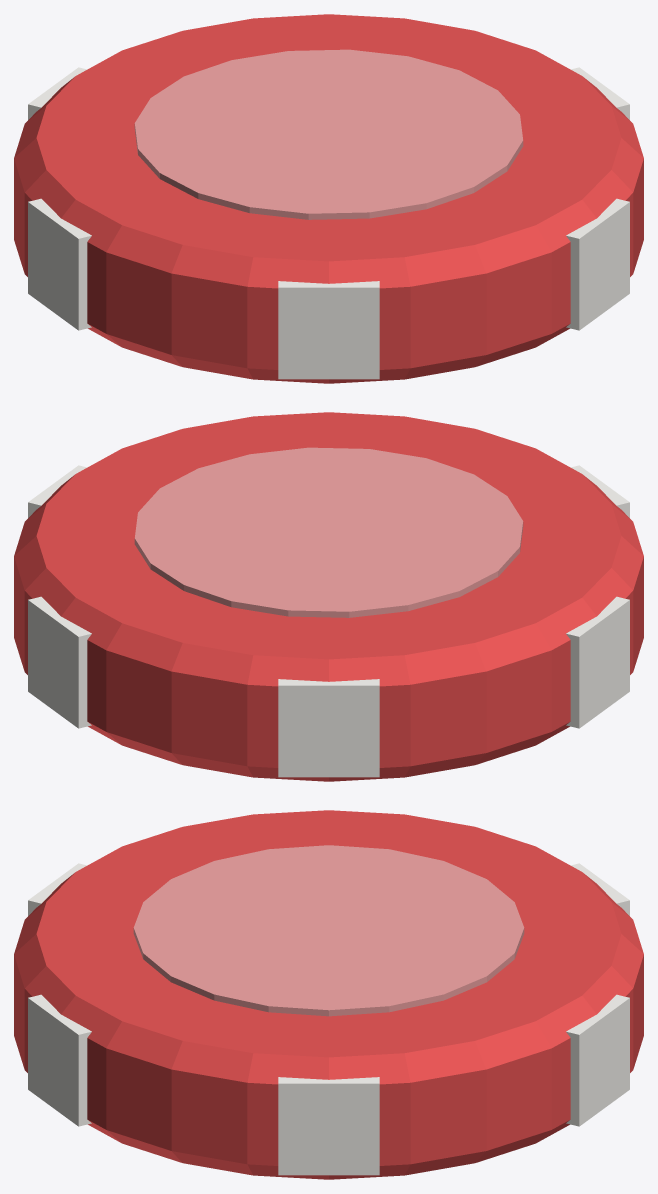
The model's file is ficha.glb.
The picture shows the model from 3 angles, top to bottom: view 1: azimuth 30°, elevation 25°; view 2: azimuth 150°, elevation 25°; view 3: azimuth 270°, elevation 25°; orthographic projection.
Parts seen in each view (by area): view 1: Ficha_0; view 2: Ficha_0; view 3: Ficha_0.
Boxes of the visible parts, box(x1,y1,x2,y2) form: Ficha_0: box(14, 14, 643, 383); Ficha_0: box(14, 412, 643, 781); Ficha_0: box(14, 810, 643, 1179).
Size of the model in its own units: 0.0566 by 0.0126 by 0.056.
